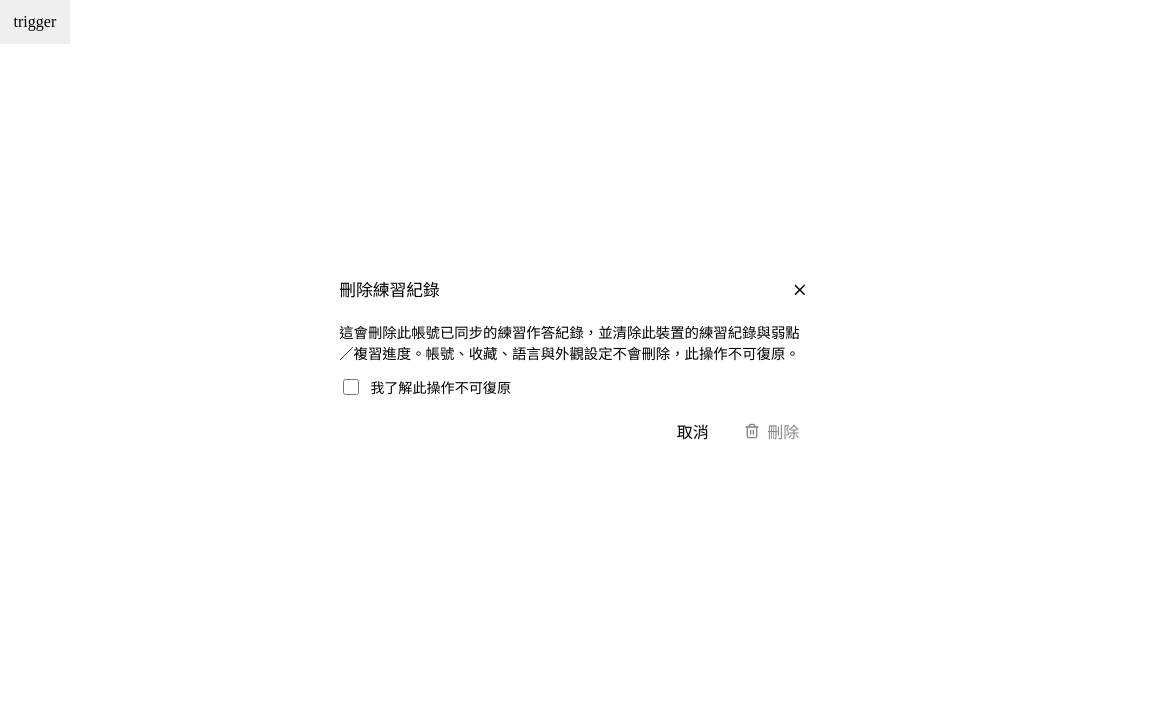
Test: DeletePracticeHistoryDialog (#693) › gates confirm on the checkbox — tick enables, uncheck disables
This screenshot has width=1152, height=720.
Expected: the button "刪除" is disabled, [730,409,813,453]
Click the checkbox labelled "我了解此操作不可復原" at (351, 386), box [343,378,359,394]
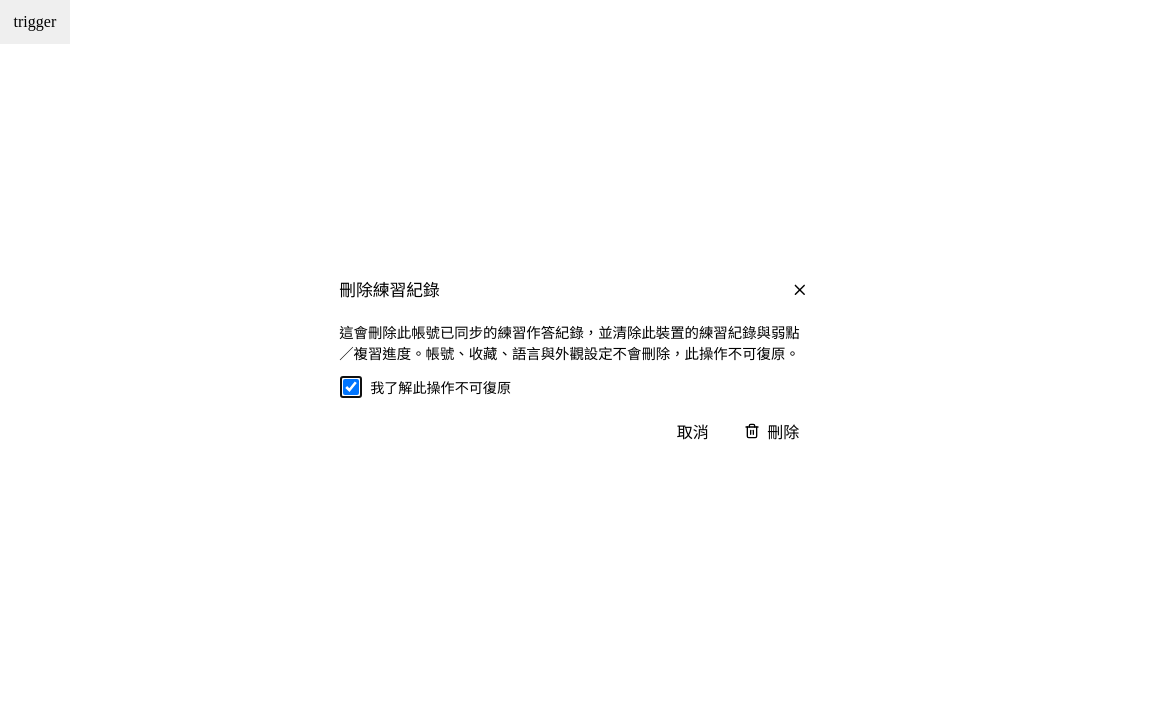
Result: the button "刪除" is enabled at [730,409,813,453]
Click the checkbox labelled "我了解此操作不可復原" at (351, 386), box [343,378,359,394]
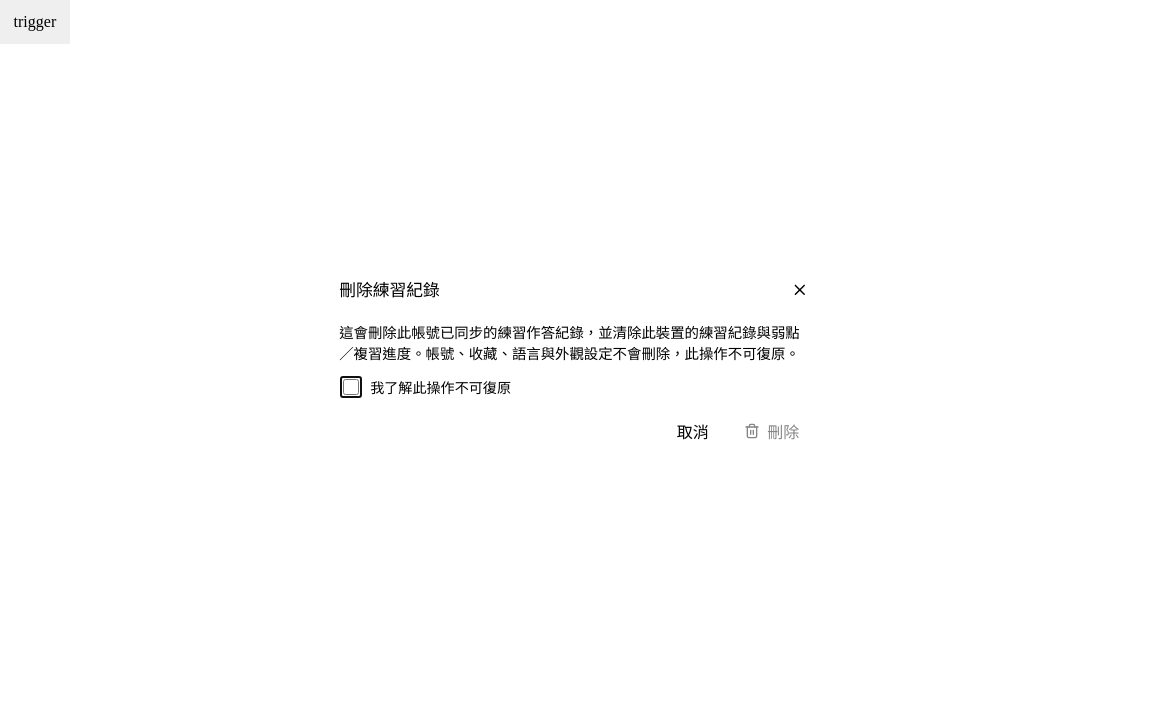
Result: the button "刪除" is disabled at [730,409,813,453]
